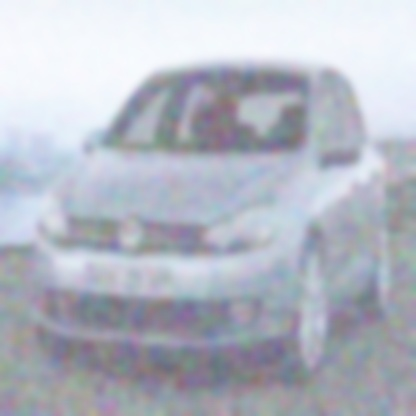Vehicle: (29, 60, 390, 378)
